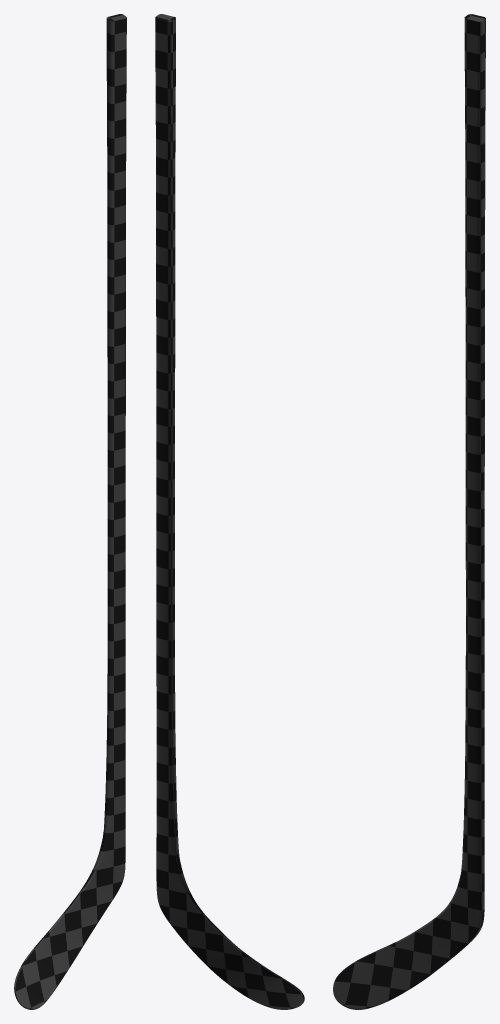
Rendered from P28-SBO.glb.
3 views of the same model, side by side, from view 1: azimuth 30°, elevation 25°; view 2: azimuth 150°, elevation 25°; view 3: azimuth 330°, elevation 25° (orthographic). The views are drawn at different scales.
Visible parts, largest first — view 1: geometry_0; view 2: geometry_0; view 3: geometry_0.
Boxes of the visible parts, box(x1,y1,x2,y2) form: geometry_0: box(14, 14, 126, 1009); geometry_0: box(155, 14, 304, 1009); geometry_0: box(333, 14, 485, 1009).
Size of the model in its own units: 229 by 1650 by 71.56.
1 material, 1 textured.
